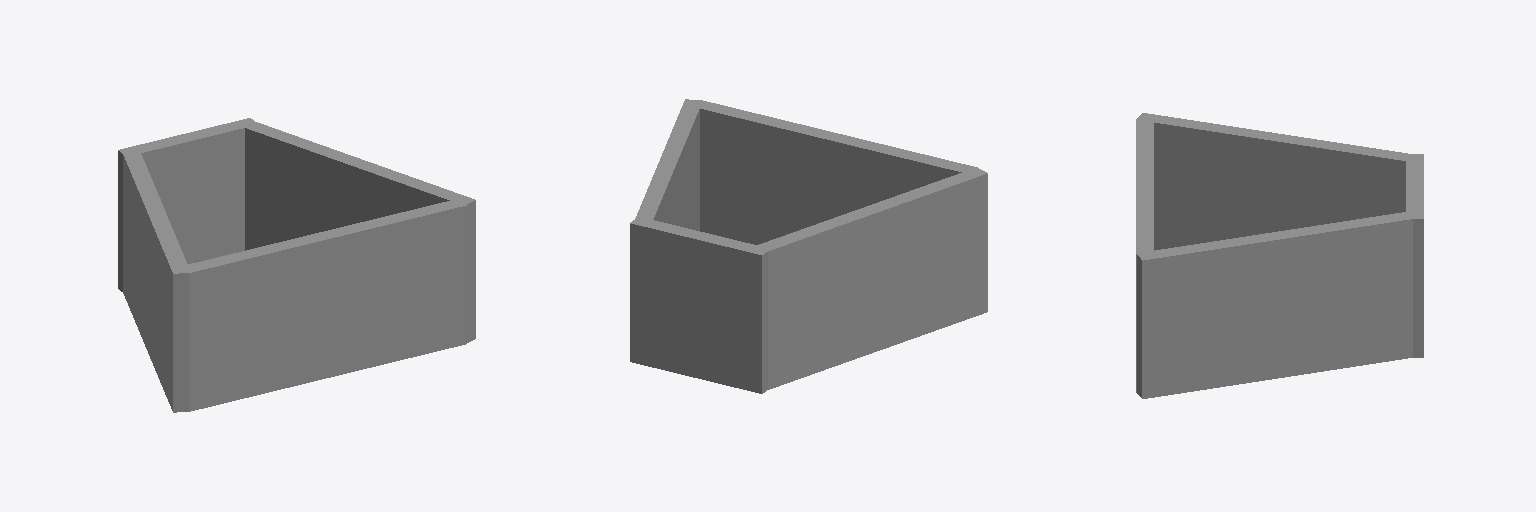
The model's file is Highlight1.obj.
3 views of the same model, side by side, from view 1: azimuth 30°, elevation 25°; view 2: azimuth 150°, elevation 25°; view 3: azimuth 270°, elevation 25° (orthographic).
Parts seen in each view (by area): view 1: CrossBar_(2), CrossBar_(1), CrossBar_(3), CrossBar.001; view 2: CrossBar.001, CrossBar_(2), CrossBar_(3), CrossBar_(1); view 3: CrossBar_(1), CrossBar.001, CrossBar_(3), CrossBar_(2).
Boxes of the visible parts, box(x1,y1,x2,y2) form: CrossBar_(2): box(182, 199, 466, 411); CrossBar_(1): box(241, 121, 475, 342); CrossBar_(3): box(118, 118, 253, 291); CrossBar.001: box(123, 153, 190, 412); CrossBar.001: box(758, 168, 987, 389); CrossBar_(2): box(694, 100, 977, 244); CrossBar_(3): box(630, 217, 769, 393); CrossBar_(1): box(635, 99, 702, 230); CrossBar_(1): box(1136, 211, 1415, 398); CrossBar.001: box(1137, 113, 1407, 250); CrossBar_(3): box(1406, 154, 1423, 357); CrossBar_(2): box(1136, 119, 1153, 392).
Bounding box in the file's own units: 0.4803 × 0.21 × 0.395.